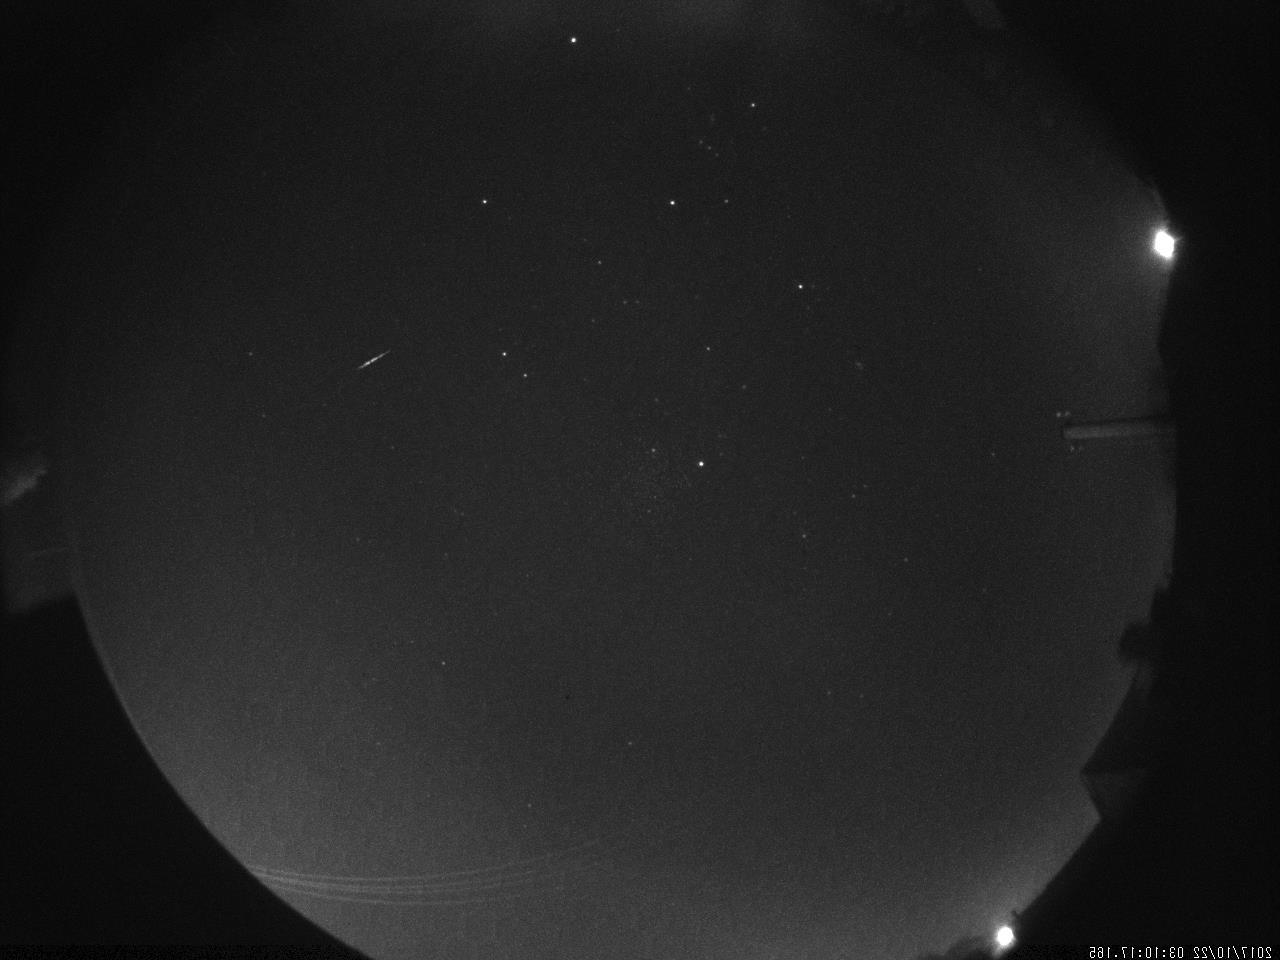meteor: (352, 344, 394, 372)
